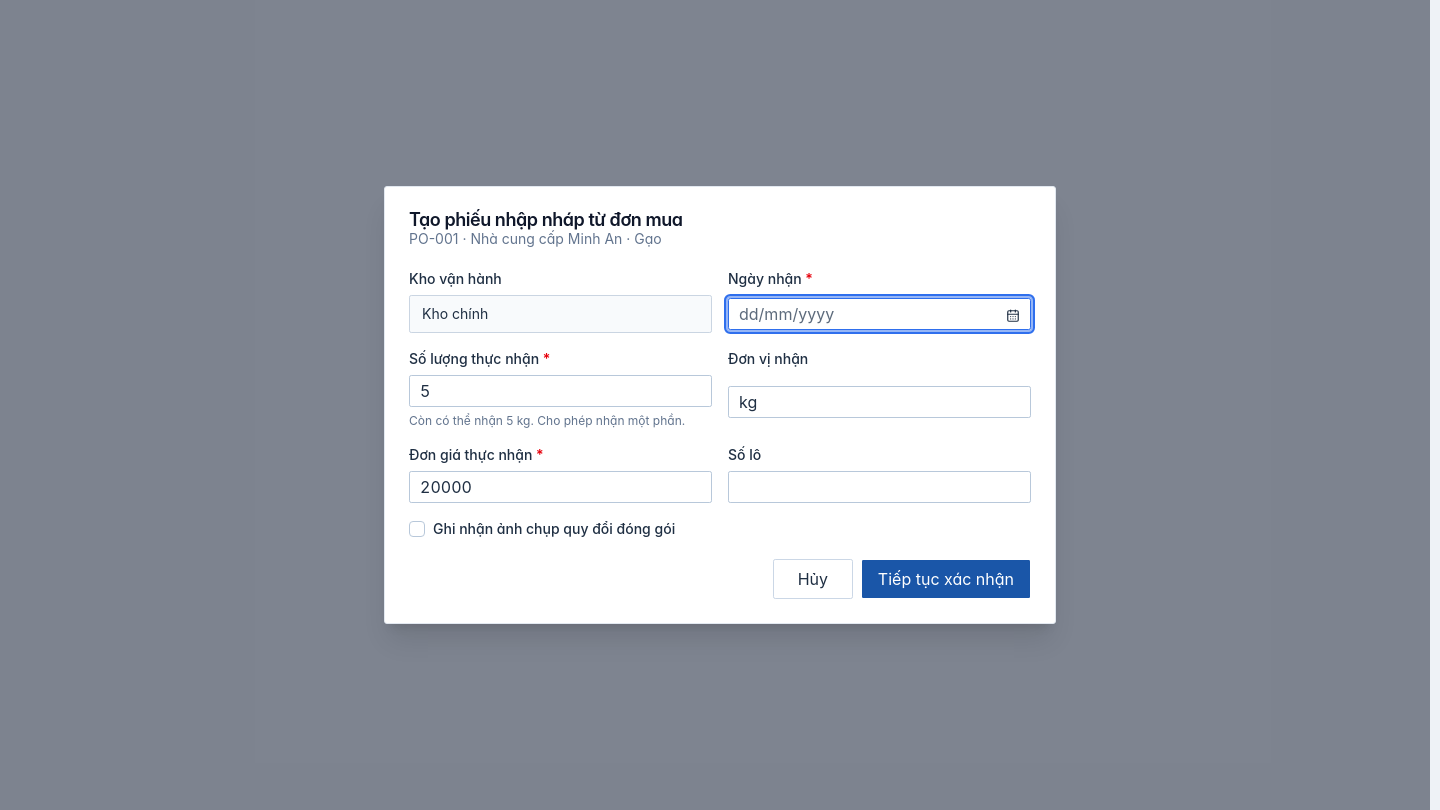
Test: WarehouseExceptionsWorkbench › references the quantity error only while that error is rendered
Replace the text in the number field labelled "Số lượng thực nhận *" with "6" at (560, 391), box [409, 375, 712, 407]
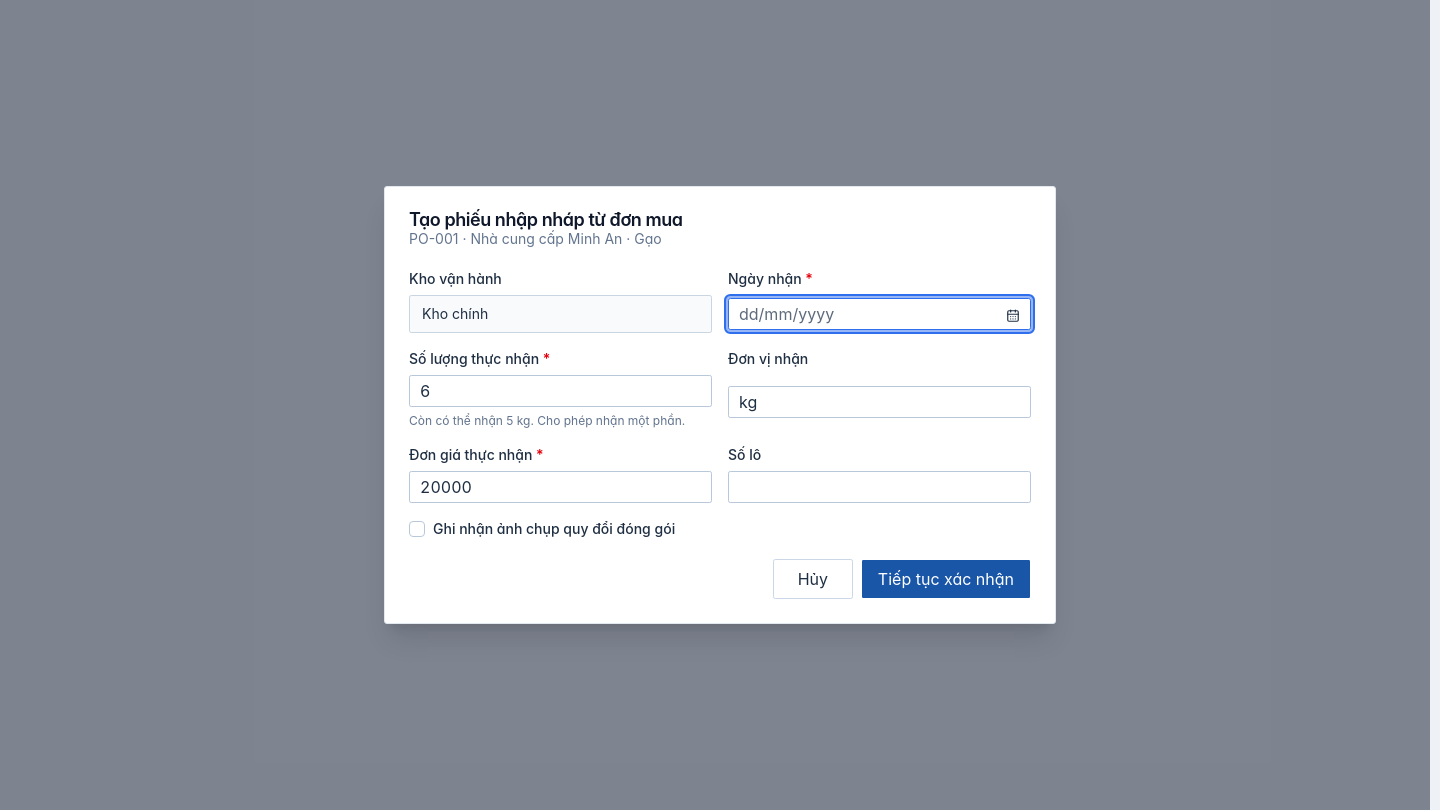
Click the button "Tiếp tục xác nhận" at (946, 579), box [861, 559, 1031, 599]
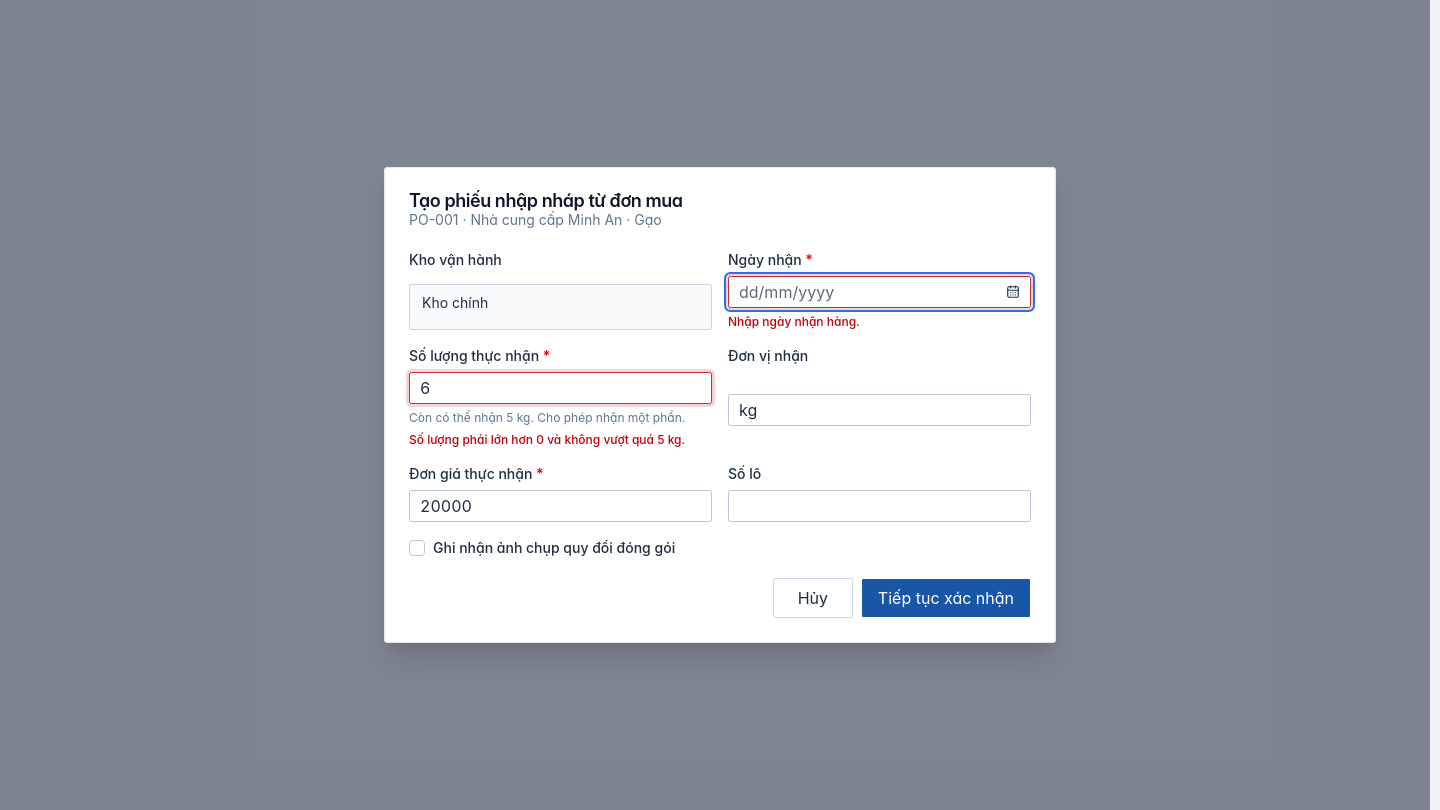
Now the message "Số lượng phải lớn hơn 0 và không vượt quá 5 kg." is shown, box [409, 432, 712, 448]
